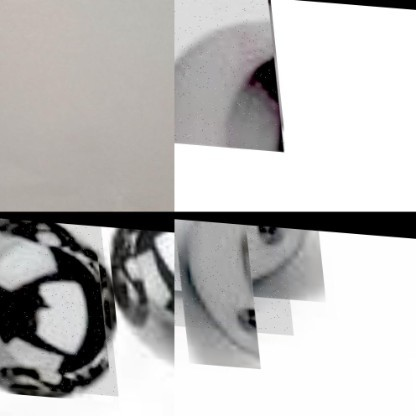ironball: (0, 211, 114, 392), (174, 0, 281, 148), (174, 214, 291, 331), (104, 223, 174, 373)
